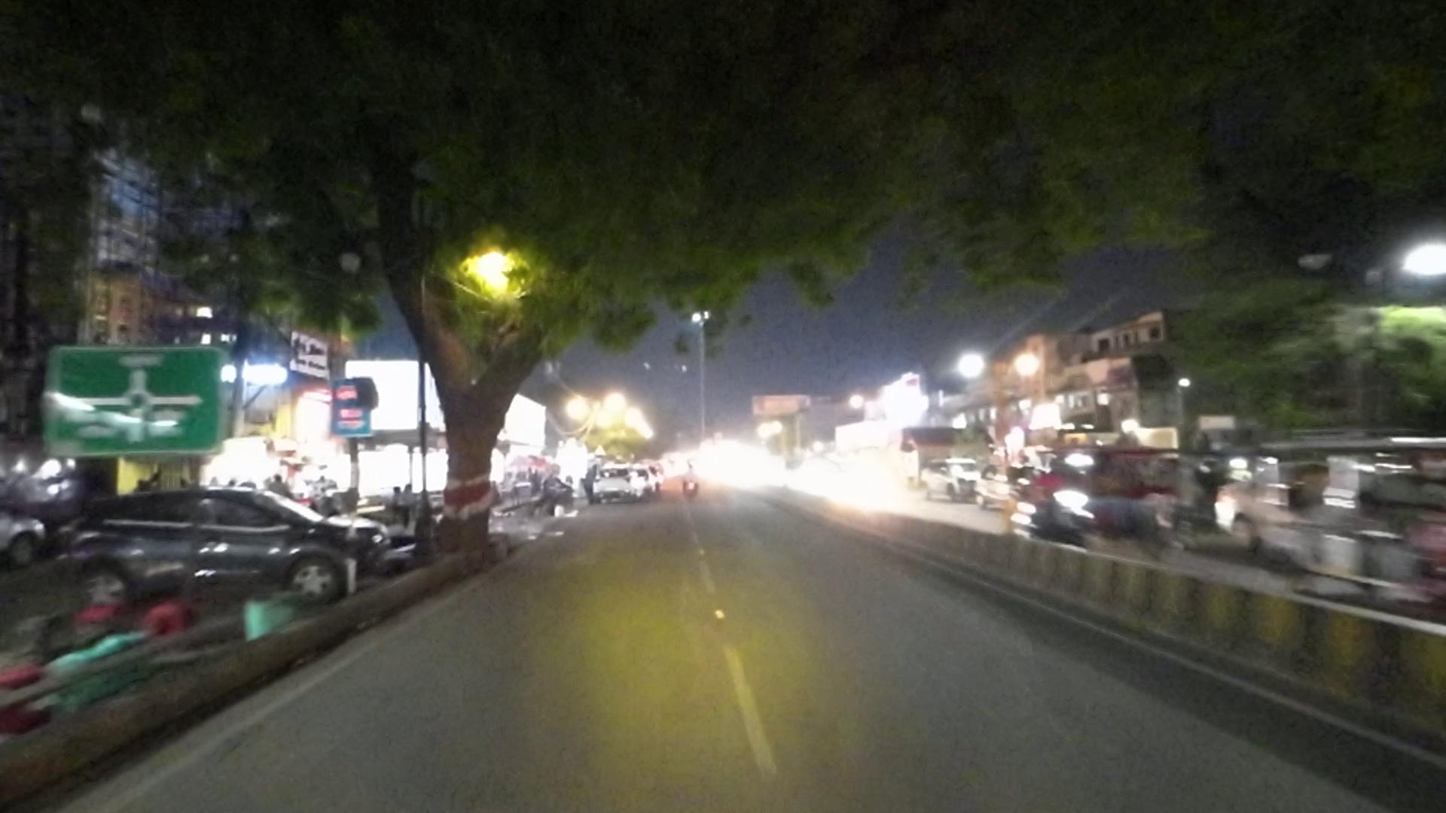streetlight: (1286, 225, 1346, 287), (328, 221, 374, 291)
